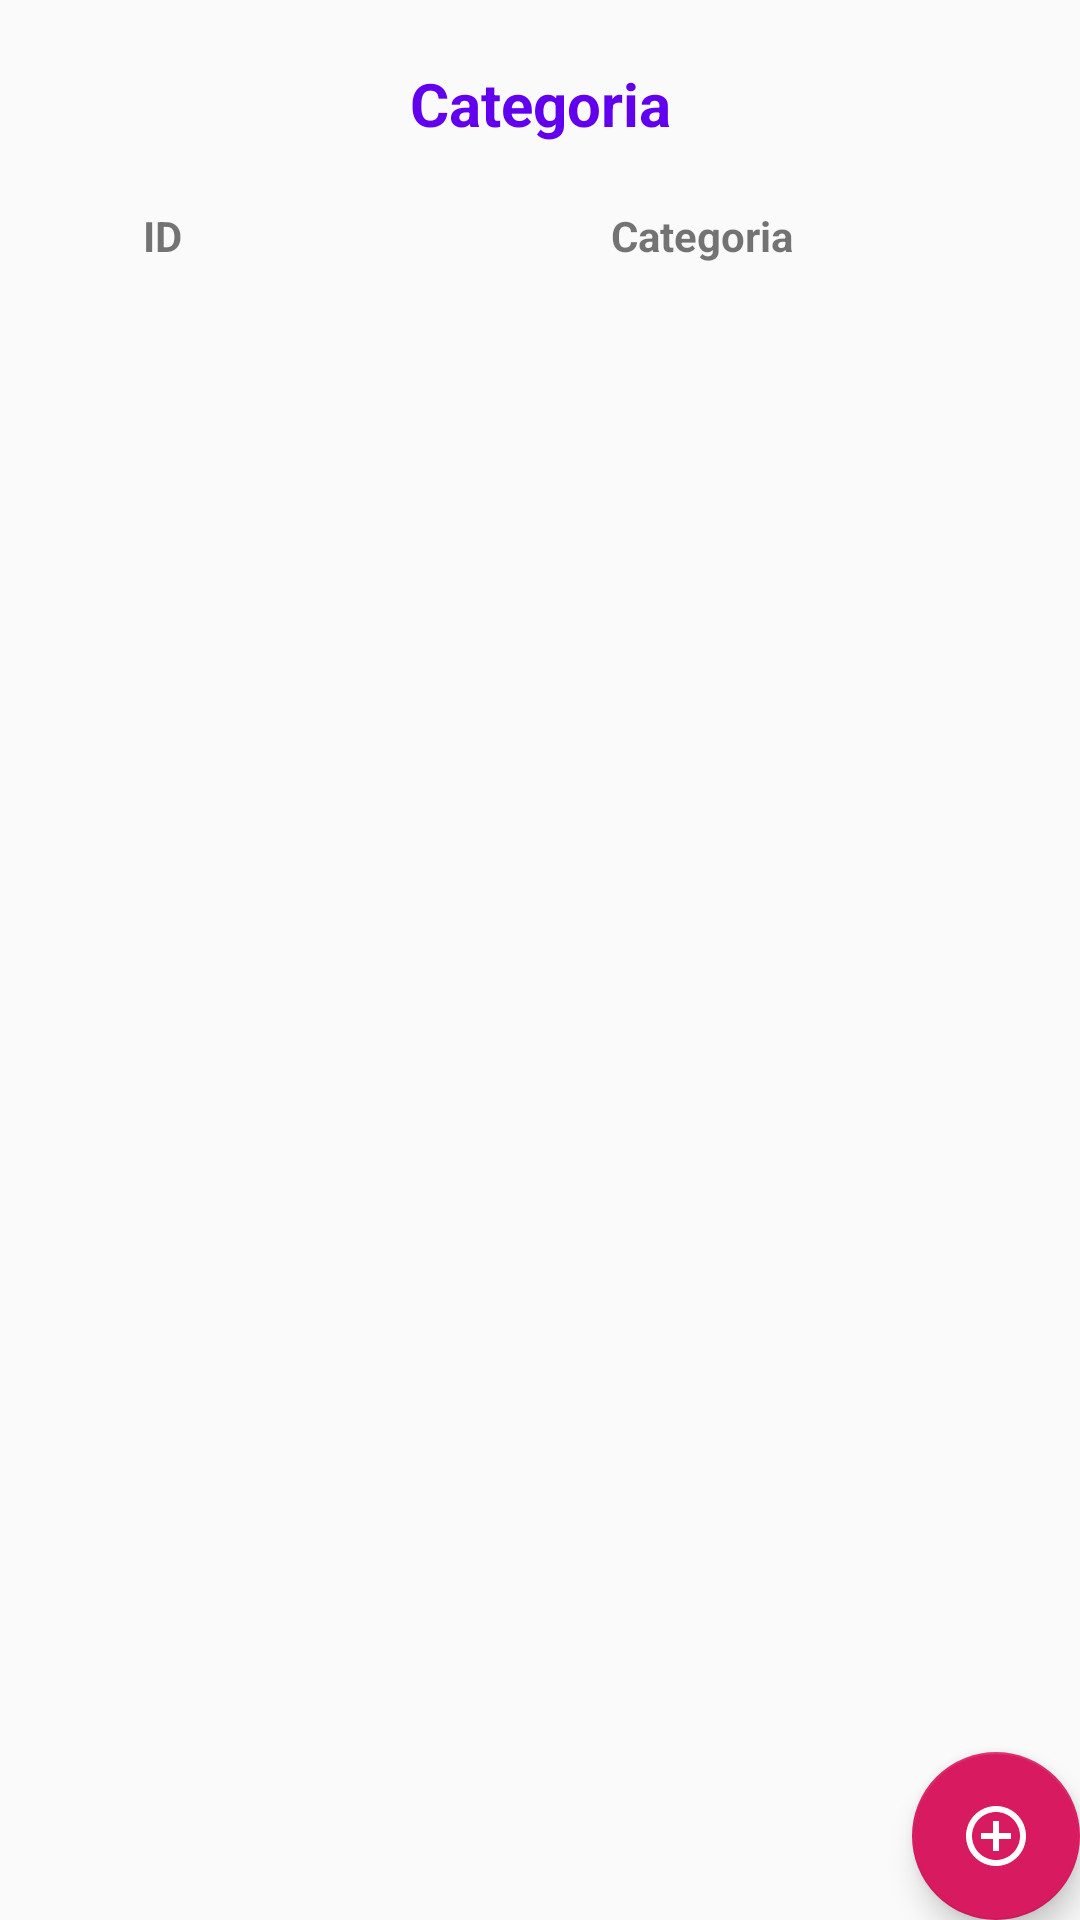

Where icons sit on this 1080*1920 app screen, as (x1, y1, x2, y2):
add circle: (912, 1752, 1080, 1920)
